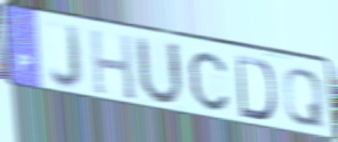C: (186, 49, 231, 113)
D: (234, 53, 278, 123)
H: (88, 26, 138, 104)
J: (48, 22, 85, 93)
Q: (281, 66, 327, 130)
U: (133, 33, 186, 108)
